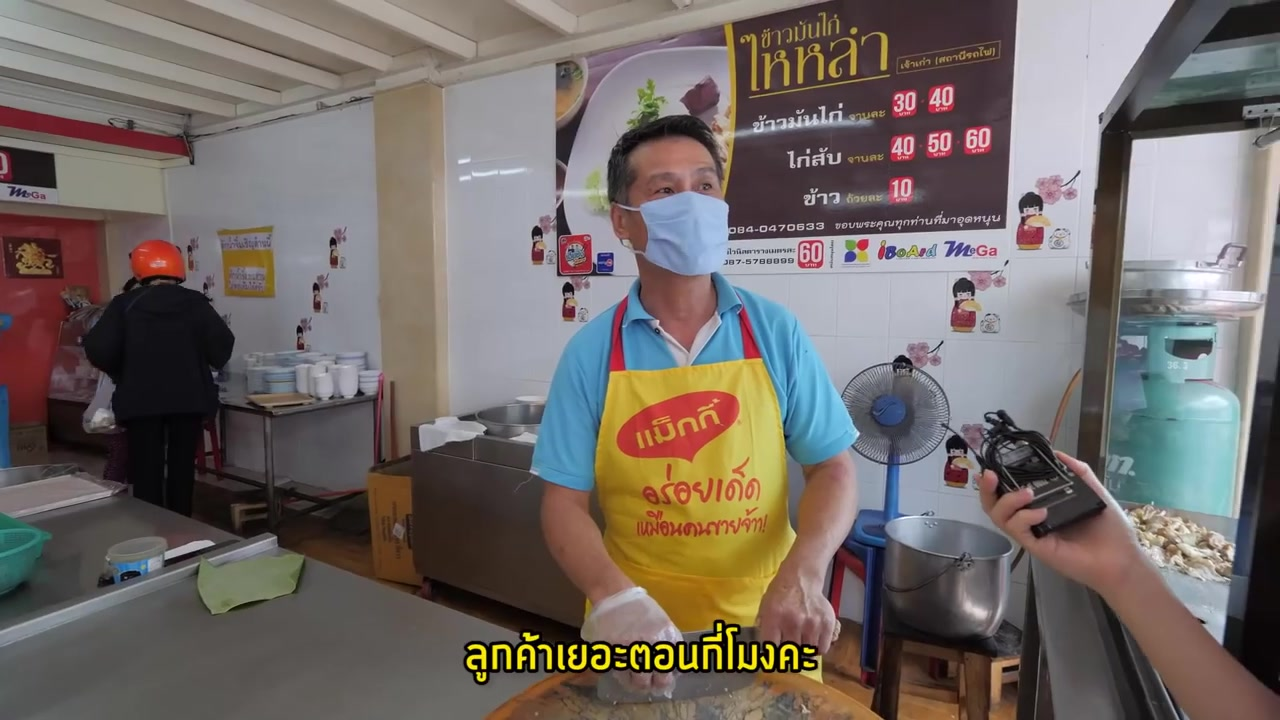text-label: (461, 617, 822, 686)
